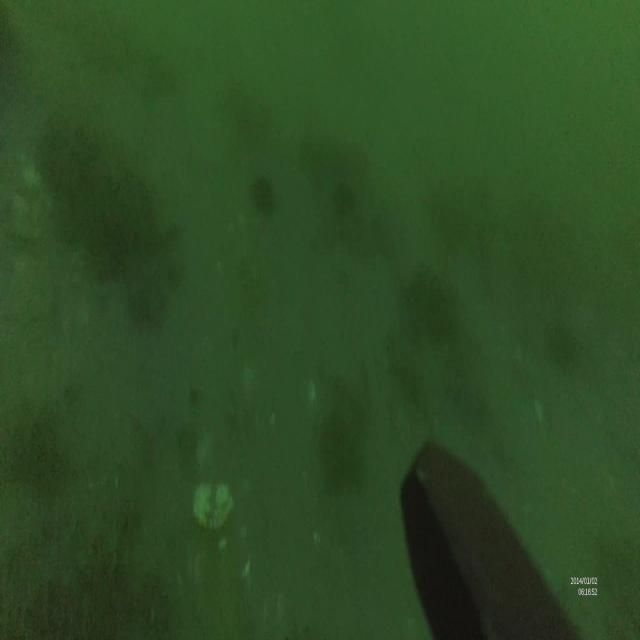echinus: (252, 169, 274, 217), (334, 178, 356, 216)
